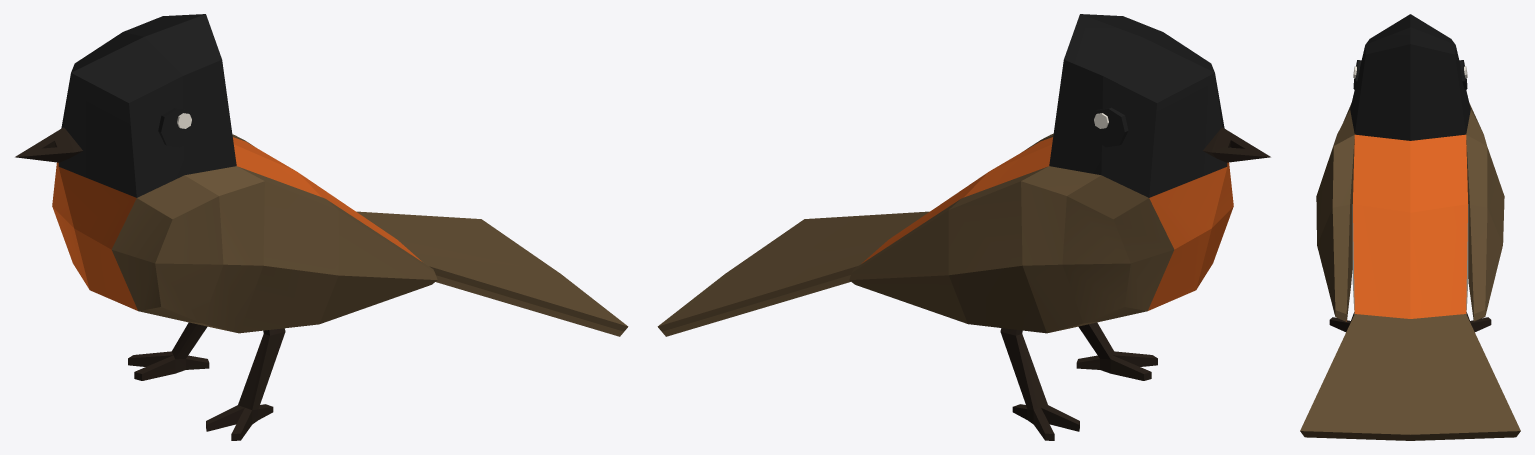
The model's file is robin.glb.
The picture shows the model from 3 angles, left to right: view 1: azimuth 30°, elevation 25°; view 2: azimuth 150°, elevation 25°; view 3: azimuth 270°, elevation 25°; orthographic projection. The views are drawn at different scales.
Parts seen in each view (by area): view 1: bird_01_Cube.011; view 2: bird_01_Cube.011; view 3: bird_01_Cube.011.
Boxes of the visible parts, x1=… form: bird_01_Cube.011: x1=15, y1=14, x2=628, y2=440; bird_01_Cube.011: x1=657, y1=14, x2=1270, y2=440; bird_01_Cube.011: x1=1300, y1=14, x2=1520, y2=440.
Size of the model in its own units: 296 by 198 by 138.
